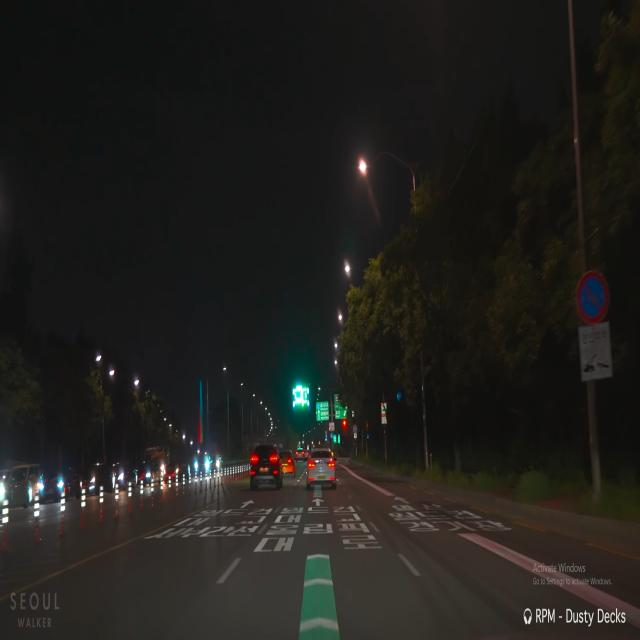headlights: (37, 475, 66, 495), (193, 452, 213, 476)
